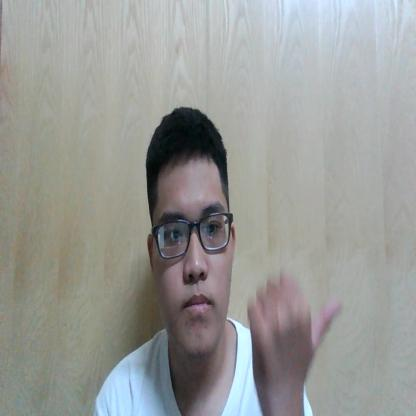left: (247, 270, 344, 399)
